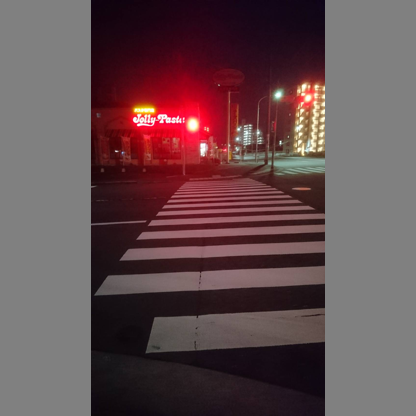crosswalk: (94, 180, 322, 359)
